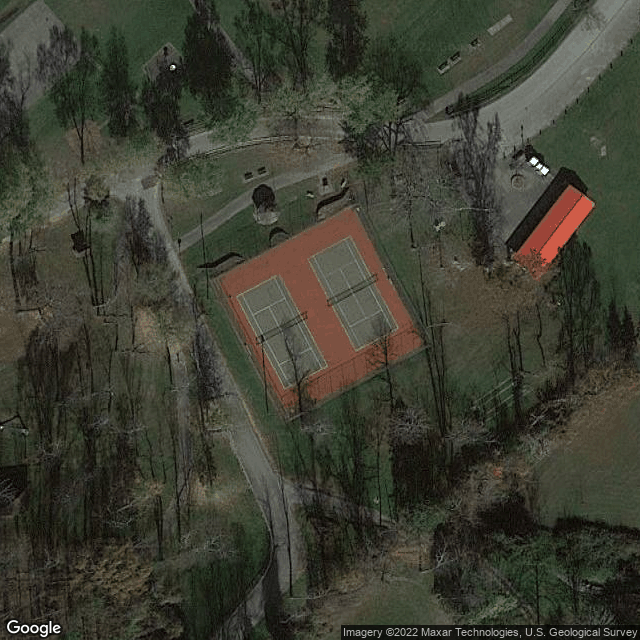Court: (305, 235, 400, 352), (234, 274, 329, 388)
